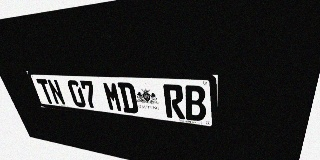0: (66, 80, 87, 108)
7: (79, 80, 100, 109)
B: (183, 85, 206, 122)
D: (117, 82, 139, 114)
M: (102, 81, 123, 112)
N: (46, 79, 66, 105)
R: (163, 84, 185, 119)
T: (36, 79, 56, 104)
